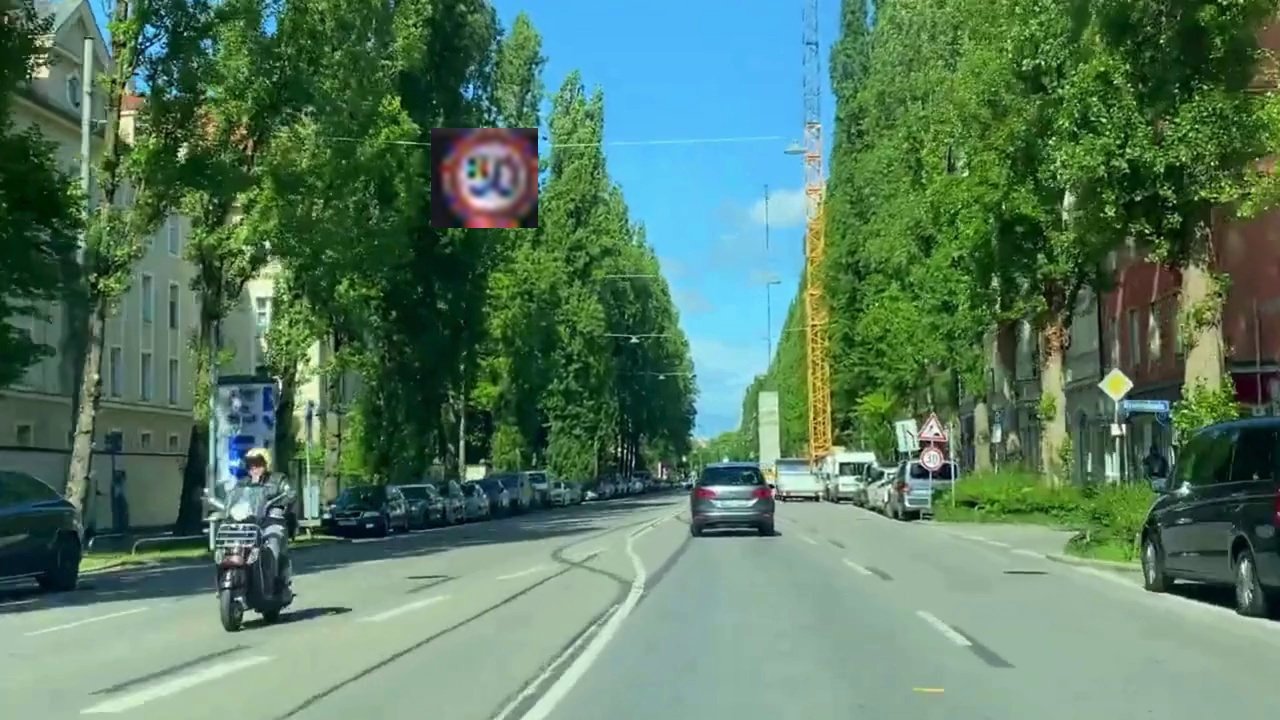Speed 50: (431, 128, 538, 228)
